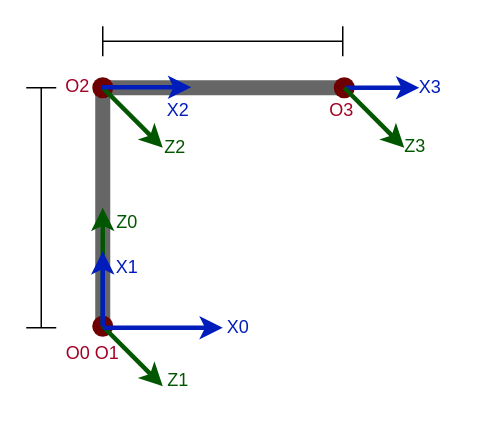
This 479x426 diagram has some shape labels left out. The shapes that lost their labels are listed below. From the top down, each one's box as (x1, y1, x2, y2) in pixels, then its label:
(101, 25, 343, 56): a2
(25, 86, 56, 328): a1
